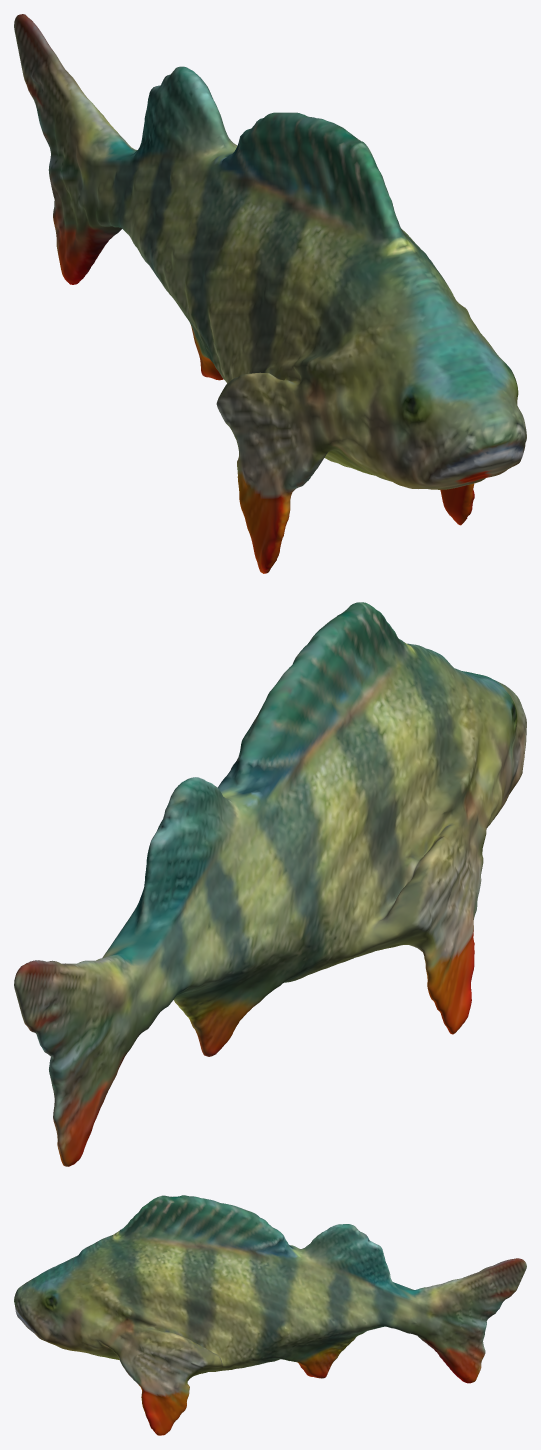
File: perche.glb
3 views of the same model, one above another, from view 1: azimuth 30°, elevation 25°; view 2: azimuth 150°, elevation 25°; view 3: azimuth 270°, elevation 25° (orthographic). The views are drawn at different scales.
Visible parts, largest first — view 1: perche_raw.ply; view 2: perche_raw.ply; view 3: perche_raw.ply.
Boxes of the visible parts, x1=… form: perche_raw.ply: x1=14, y1=14, x2=526, y2=573; perche_raw.ply: x1=14, y1=602, x2=526, y2=1166; perche_raw.ply: x1=14, y1=1195, x2=526, y2=1435.
Bounding box in the file's own units: 102 × 192 × 412.
